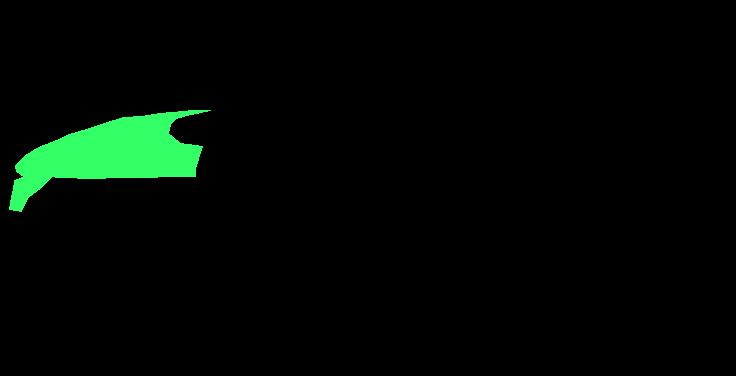Broken part: (15, 110, 210, 178), (9, 173, 52, 211)
Dent: (16, 139, 62, 172)
